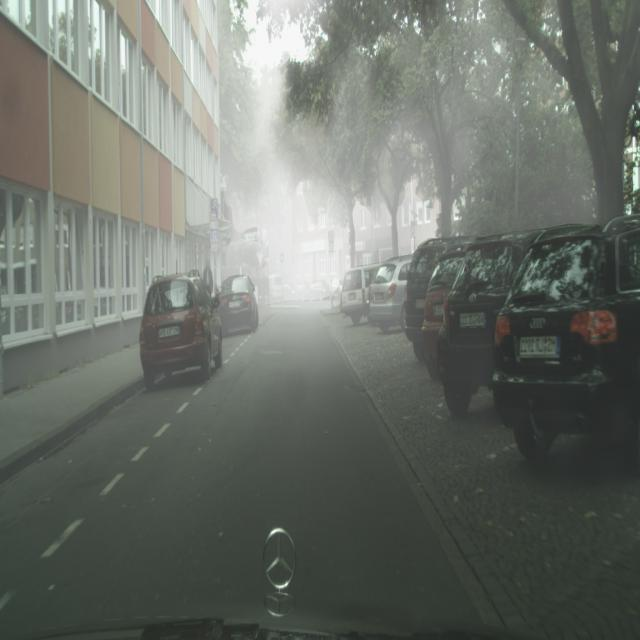bus: (492, 214, 639, 470), (437, 230, 544, 418), (139, 272, 223, 390), (421, 250, 470, 380), (405, 240, 449, 359), (368, 257, 413, 333), (216, 276, 259, 336), (339, 265, 378, 327), (269, 272, 283, 302), (310, 281, 327, 299), (294, 283, 311, 301)
person: (203, 261, 214, 295)
